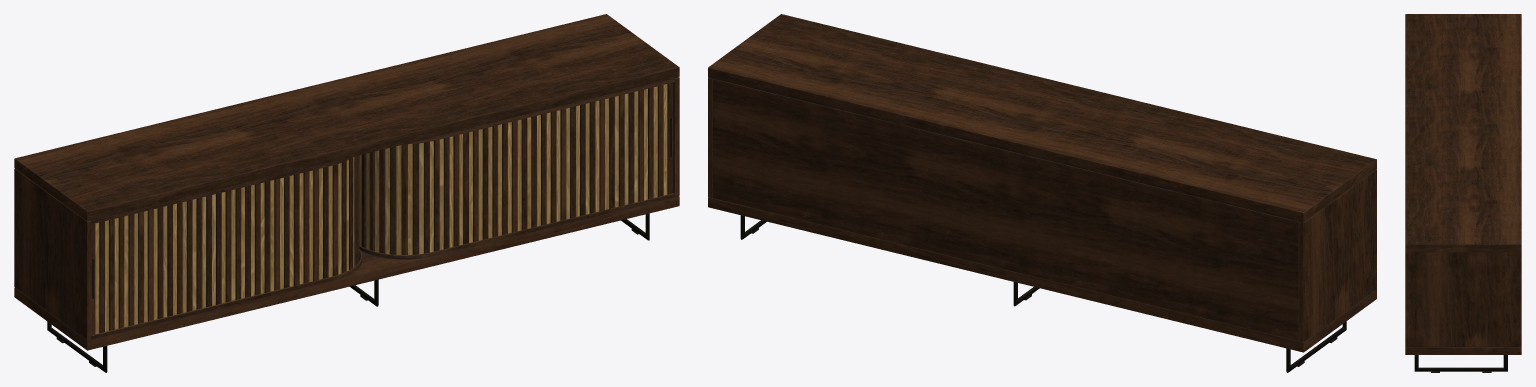
Rendered from modern_wooden_cabinet.glb.
3 renders of one model, left to right at view 1: azimuth 30°, elevation 25°; view 2: azimuth 150°, elevation 25°; view 3: azimuth 270°, elevation 25°, orthographic. The views are drawn at different scales.
Visible parts, largest first — view 1: modern_wooden_cabinet_body, modern_wooden_cabinet_door_r, modern_wooden_cabinet_door_l; view 2: modern_wooden_cabinet_body; view 3: modern_wooden_cabinet_body.
Boxes of the visible parts, box(x1,y1,x2,y2) form: modern_wooden_cabinet_body: box(14, 14, 679, 372); modern_wooden_cabinet_door_r: box(359, 82, 673, 254); modern_wooden_cabinet_door_l: box(91, 155, 359, 334); modern_wooden_cabinet_body: box(708, 14, 1376, 372); modern_wooden_cabinet_body: box(1405, 14, 1521, 372).
Bounding box in the file's own units: 2.44 × 0.6801 × 0.5201.
Materials: 1 (1 with a texture image).
